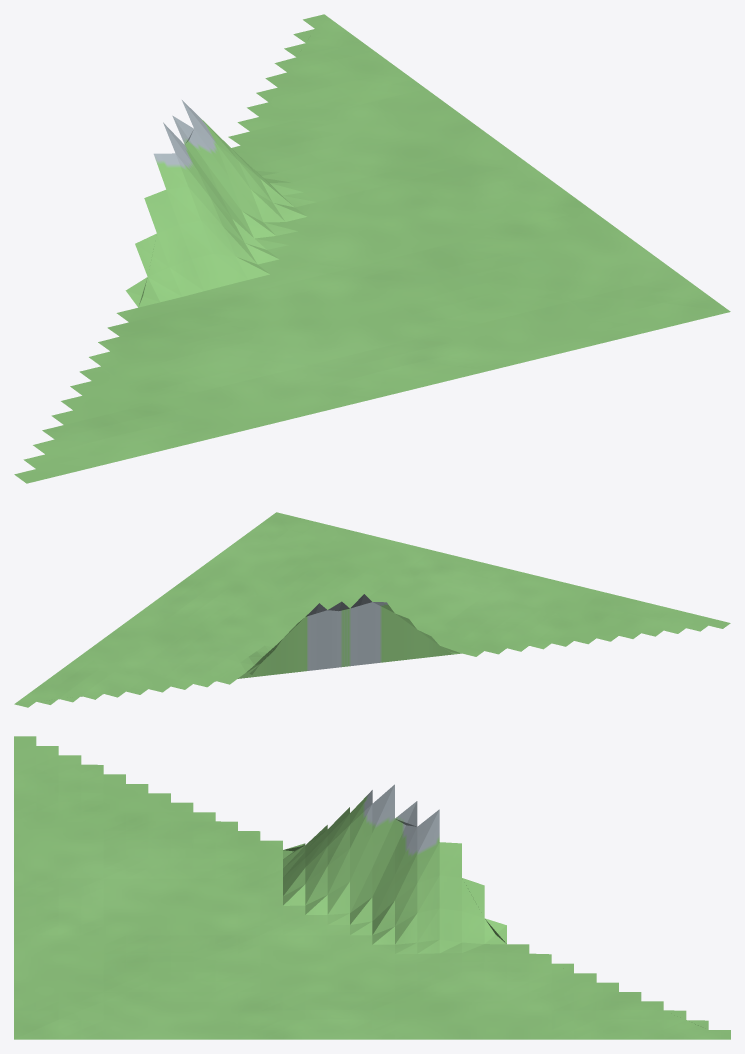
File: Grass_RockyMountains_06_NE.obj
The picture shows the model from 3 angles, top to bottom: view 1: azimuth 30°, elevation 25°; view 2: azimuth 150°, elevation 25°; view 3: azimuth 270°, elevation 25°; orthographic projection. The views are drawn at different scales.
Bounding box in the file's own units: 10 × 1.6 × 10.
Materials: 1 (1 with a texture image).
